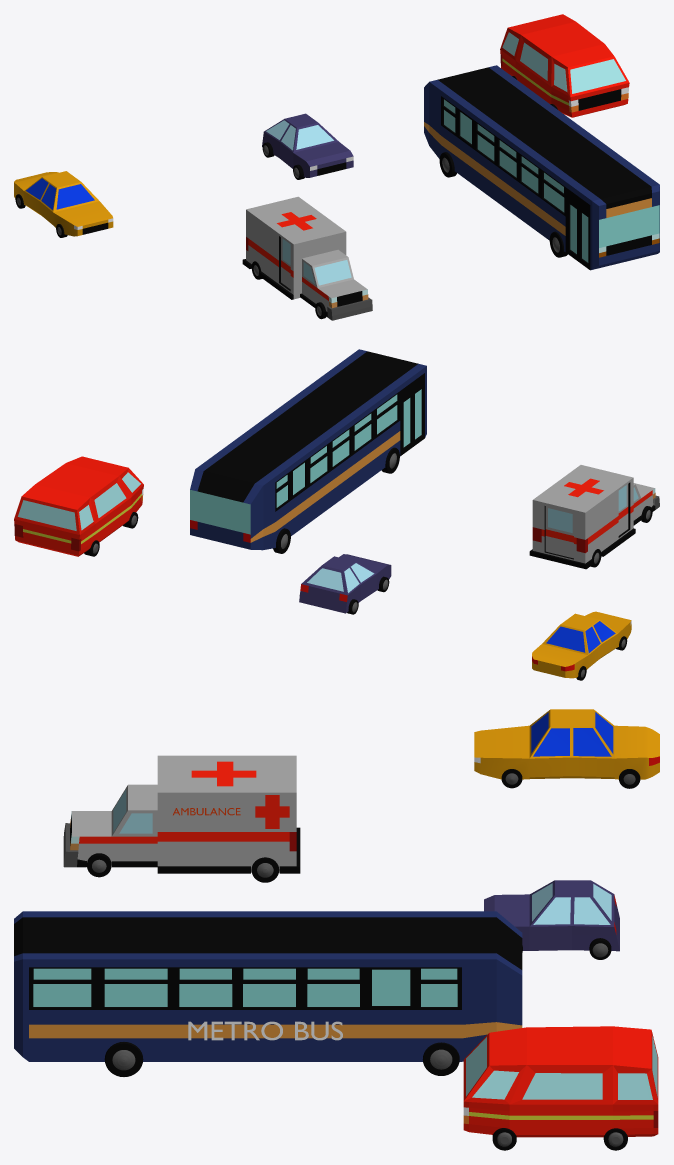
Rendered from WIL_Vehicles.fbx.
3 renders of one model, top to bottom at view 1: azimuth 30°, elevation 25°; view 2: azimuth 150°, elevation 25°; view 3: azimuth 270°, elevation 25°, orthographic. The views are drawn at different scales.
Parts seen in each view (by area): view 1: Cube.015, Cube.014, Cube.010, Cube.008, Cube.009, Cylinder.002; view 2: Cube.015, Cube.010, Cube.014, Cube.008, Cube.009, Cylinder.002; view 3: Cube.015, Cube.014, Cube.010, Cube.008, Cube.009, Cylinder.002, Cylinder.005, Cylinder.004, Cylinder.001.
Part boxes in pixels (<box>): Cube.015: <box>424,65,659,270</box>; Cube.014: <box>242,196,372,320</box>; Cube.010: <box>500,14,629,117</box>; Cube.008: <box>14,171,113,236</box>; Cube.009: <box>262,113,353,177</box>; Cylinder.002: <box>439,152,567,257</box>; Cube.015: <box>190,349,426,550</box>; Cube.010: <box>14,456,143,556</box>; Cube.014: <box>529,465,659,569</box>; Cube.008: <box>532,611,631,678</box>; Cube.009: <box>299,554,391,613</box>; Cylinder.002: <box>273,447,399,553</box>; Cube.015: <box>14,911,522,1061</box>; Cube.014: <box>63,755,300,873</box>; Cube.010: <box>463,1026,658,1137</box>; Cube.008: <box>474,709,659,779</box>; Cube.009: <box>484,880,619,951</box>; Cylinder.002: <box>104,1042,459,1076</box>; Cylinder.005: <box>87,853,279,882</box>; Cylinder.004: <box>492,1128,627,1150</box>; Cylinder.001: <box>501,769,640,788</box>.
Size of the model in its own units: 2563 by 354 by 1766.
